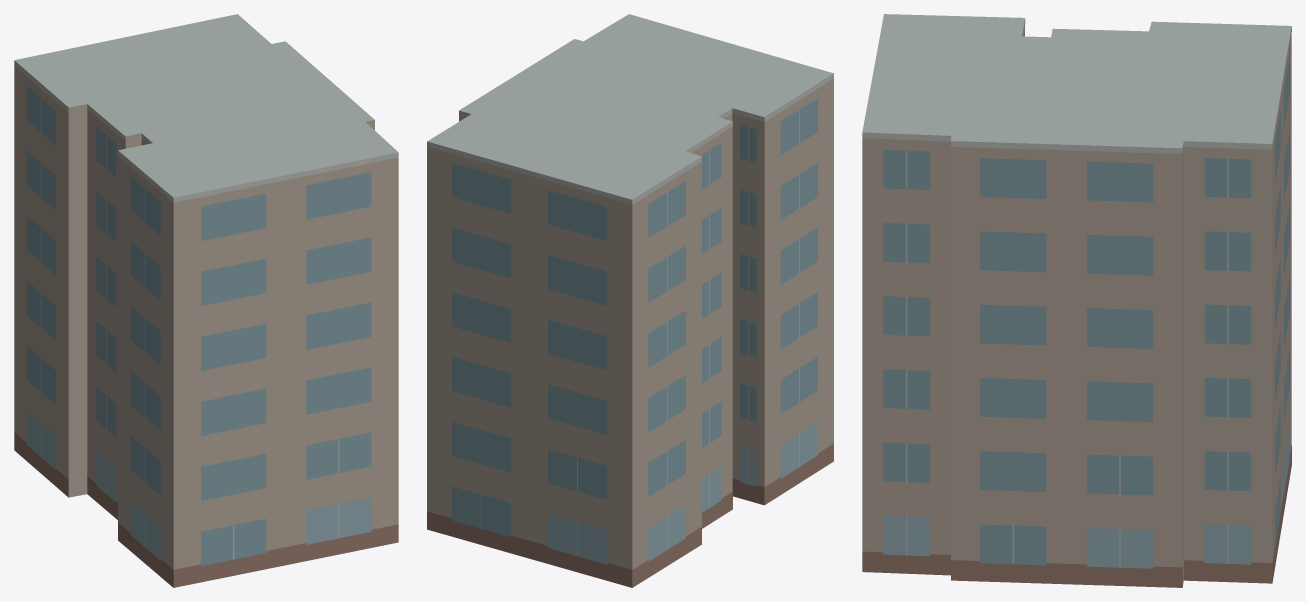
The model's file is survey-upis-32898020.glb.
The picture shows the model from 3 angles, left to right: view 1: azimuth 30°, elevation 25°; view 2: azimuth 150°, elevation 25°; view 3: azimuth 270°, elevation 25°; orthographic projection. The views are drawn at different scales.
Parts seen in each view (by area): view 1: survey-upis-32898020.tmp; view 2: survey-upis-32898020.tmp; view 3: survey-upis-32898020.tmp.
Part boxes in pixels (box(x1,y1,x2,y2)): survey-upis-32898020.tmp: box(14, 14, 398, 587); survey-upis-32898020.tmp: box(427, 14, 833, 587); survey-upis-32898020.tmp: box(862, 14, 1291, 587).
Bounding box in the file's own units: 12.21 × 18.6 × 16.48.
